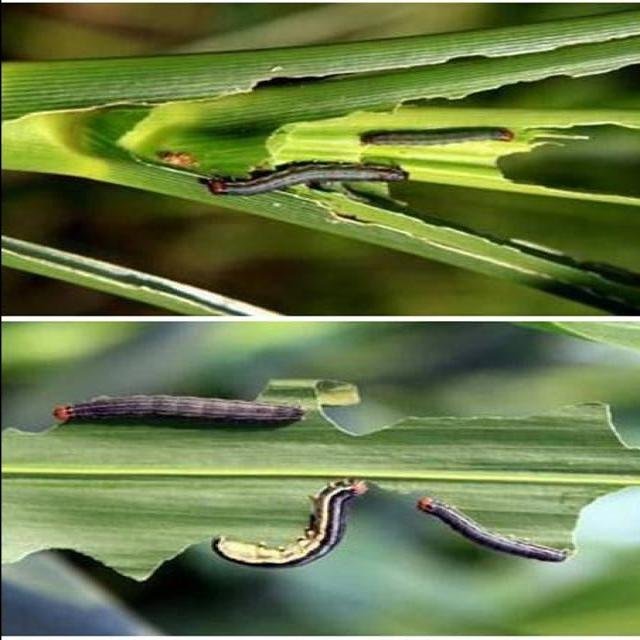army worm: (208, 480, 377, 571), (54, 396, 309, 437), (408, 503, 577, 562), (203, 161, 414, 200), (358, 120, 519, 158)
